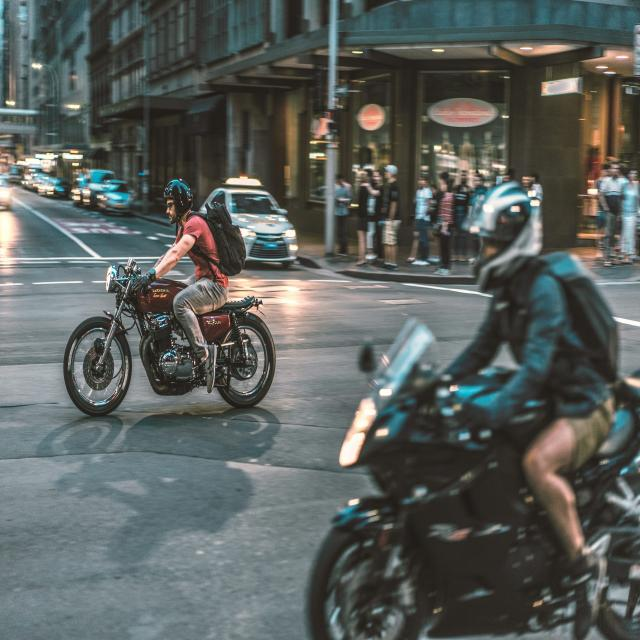bike: (307, 326, 633, 614), (61, 248, 286, 417)
car: (212, 165, 304, 261)
